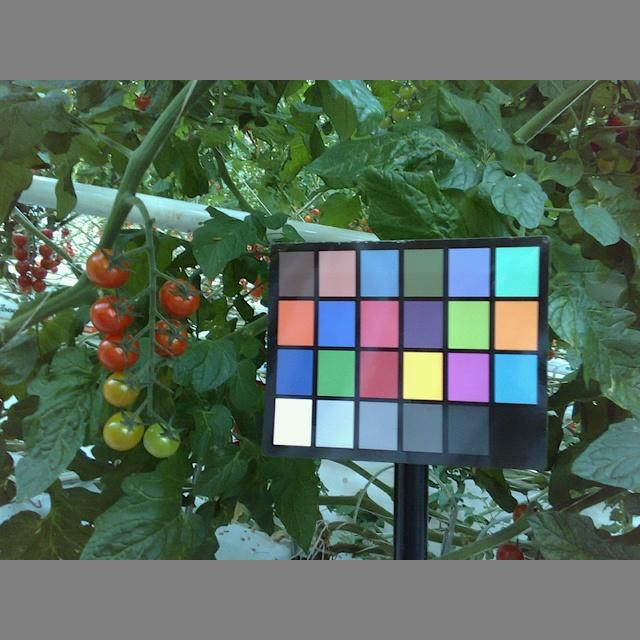green: (101, 409, 143, 449), (101, 373, 142, 408), (142, 421, 180, 458)
red: (156, 274, 200, 318), (87, 247, 130, 290), (90, 295, 134, 337), (96, 331, 141, 371), (147, 318, 190, 358)
